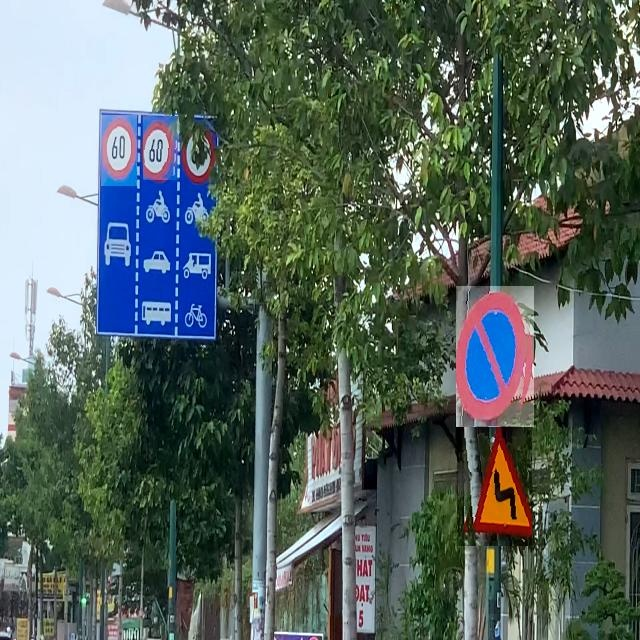bien_chi_dan: (456, 286, 534, 427), (457, 421, 532, 546), (101, 115, 137, 186), (143, 116, 179, 180)
